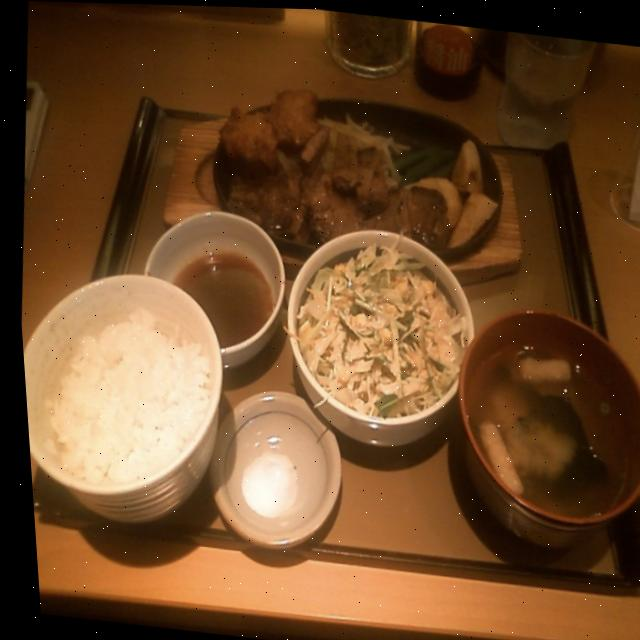牛肉菜式: (155, 66, 547, 291)
米饭主食: (13, 245, 235, 535)
